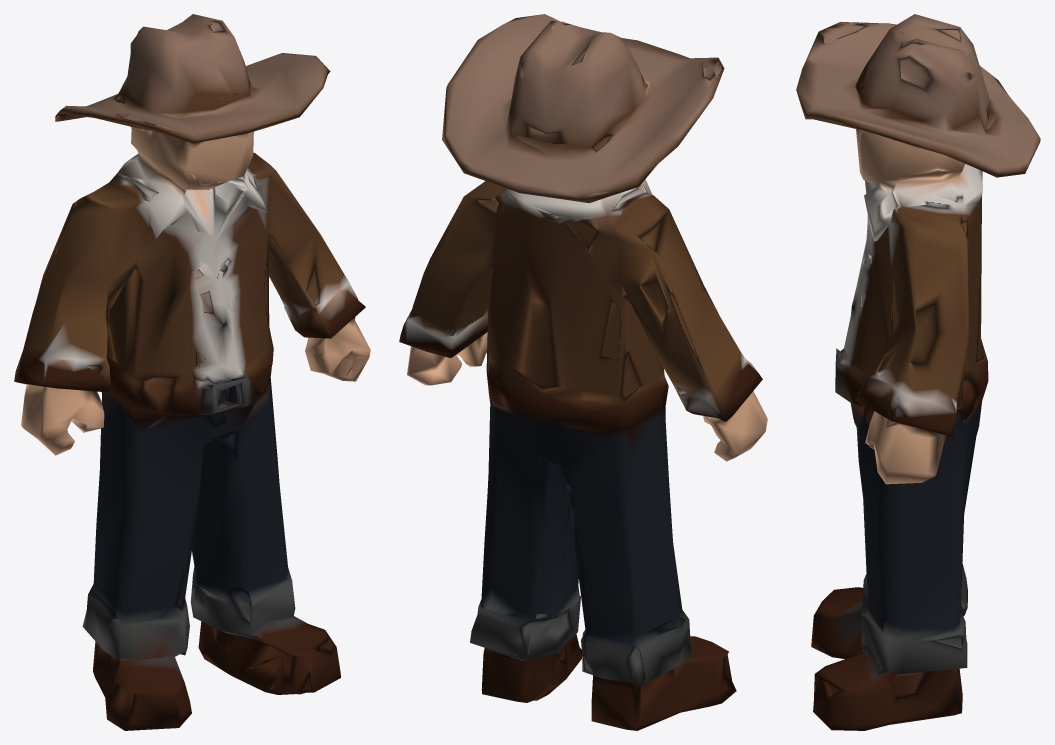
File: gen3d-cowboy-lod0.glb
The picture shows the model from 3 angles, left to right: view 1: azimuth 30°, elevation 25°; view 2: azimuth 150°, elevation 25°; view 3: azimuth 270°, elevation 25°; orthographic projection. The views are drawn at different scales.
Parts seen in each view (by area): view 1: part_0; view 2: part_0; view 3: part_0.
Boxes of the visible parts, x1,y1,x2,y2 form: part_0: [14, 14, 370, 730]; part_0: [399, 14, 767, 730]; part_0: [796, 14, 1040, 730].
Bounding box in the file's own units: 0.53 × 0.9997 × 0.3404.
